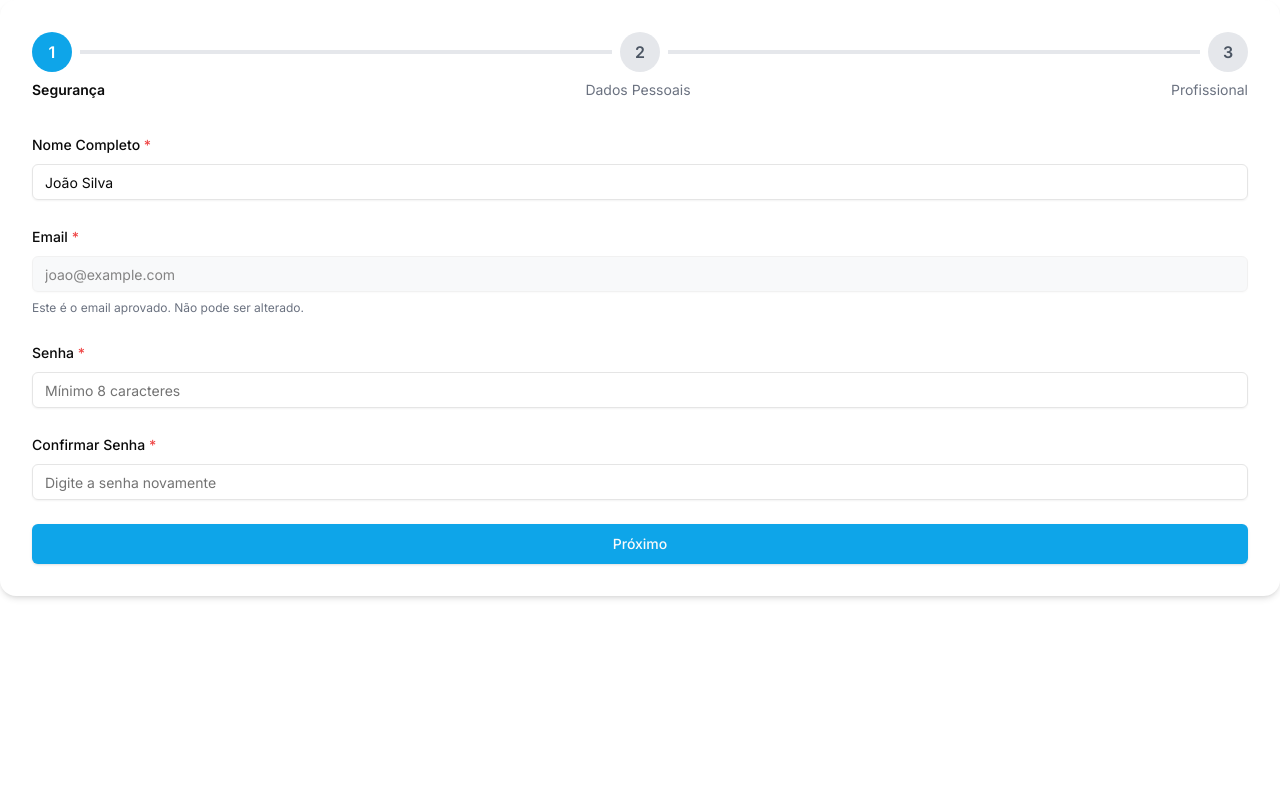
Scenario: CompleteRegistrationForm › should show error when password is too short
The width and height of the screenshot is (1280, 800).
Type "short" into the password field labelled "Senha *" at coordinates (640, 390), box [32,372,1248,408]
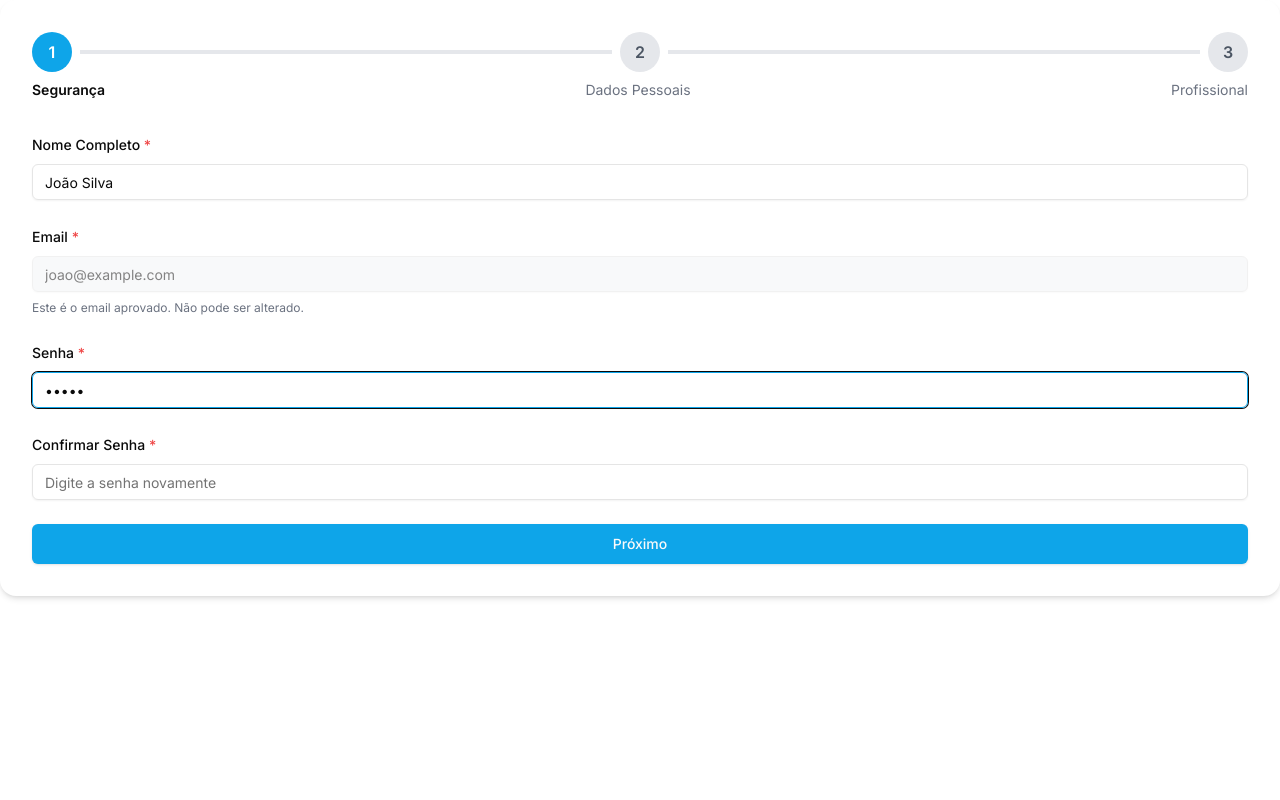
Click the button "Próximo" at coordinates (640, 544), box [32,524,1248,564]
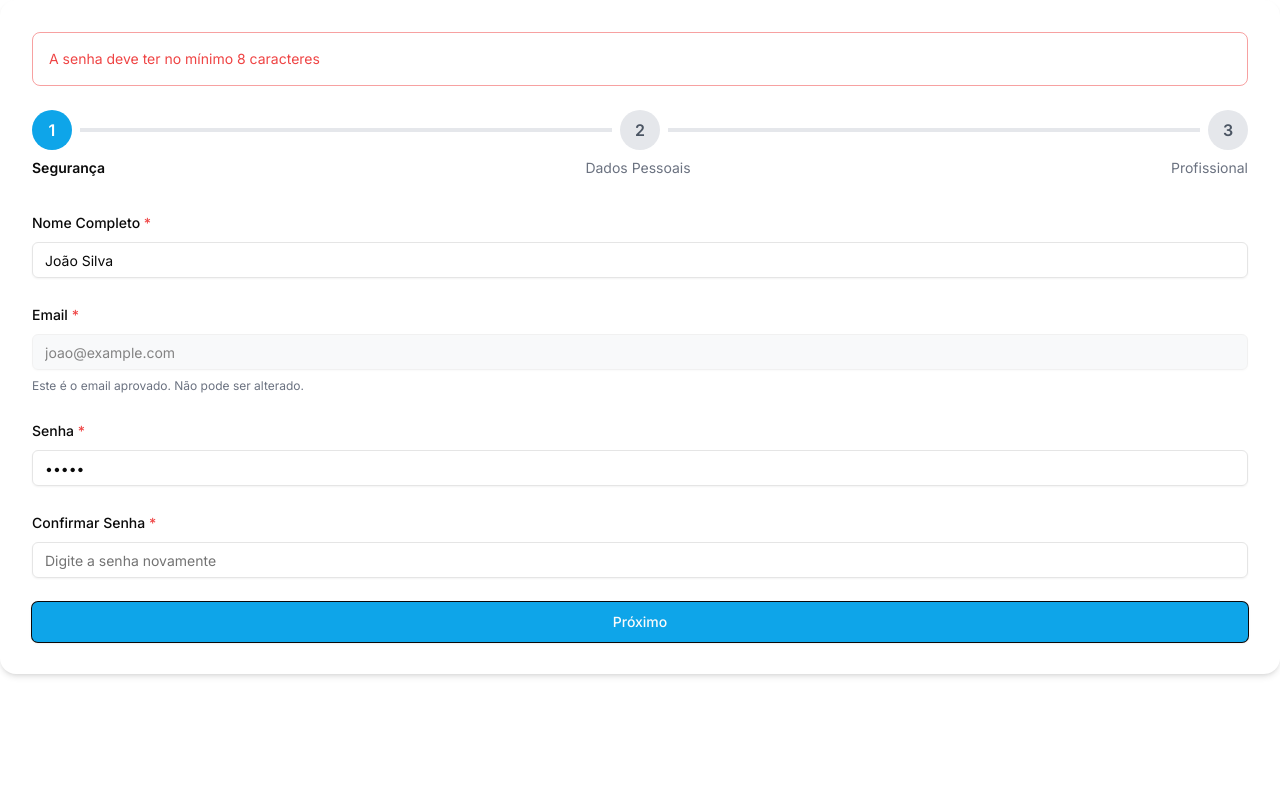
Result: the text "A senha deve ter no mínimo 8 caracteres" is shown at [49,50,320,67]
